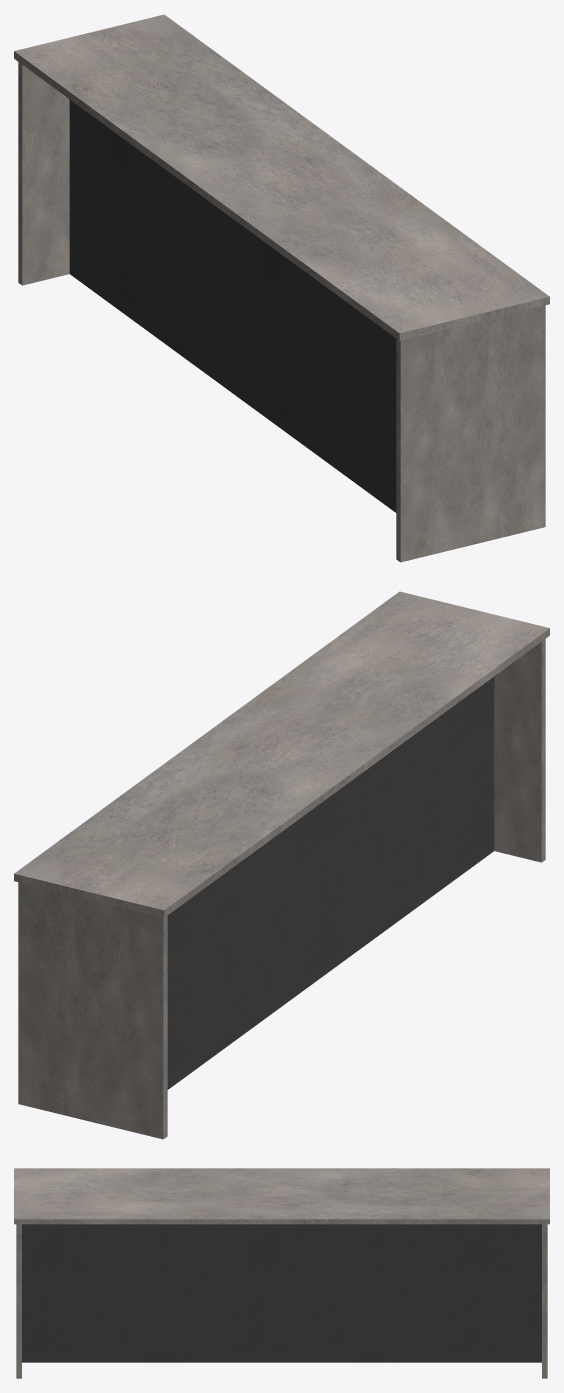
Rendered from HighTable.glb.
3 renders of one model, top to bottom at view 1: azimuth 30°, elevation 25°; view 2: azimuth 150°, elevation 25°; view 3: azimuth 270°, elevation 25°, orthographic. The views are drawn at different scales.
Visible parts, largest first — view 1: HighTable-col; view 2: HighTable-col; view 3: HighTable-col.
Boxes of the visible parts, bbox=[...] form: HighTable-col: bbox=[14, 14, 549, 562]; HighTable-col: bbox=[14, 591, 549, 1139]; HighTable-col: bbox=[14, 1168, 549, 1378].
Size of the model in its own units: 0.5853 by 0.8589 by 2.6.
2 materials, 2 textured.
